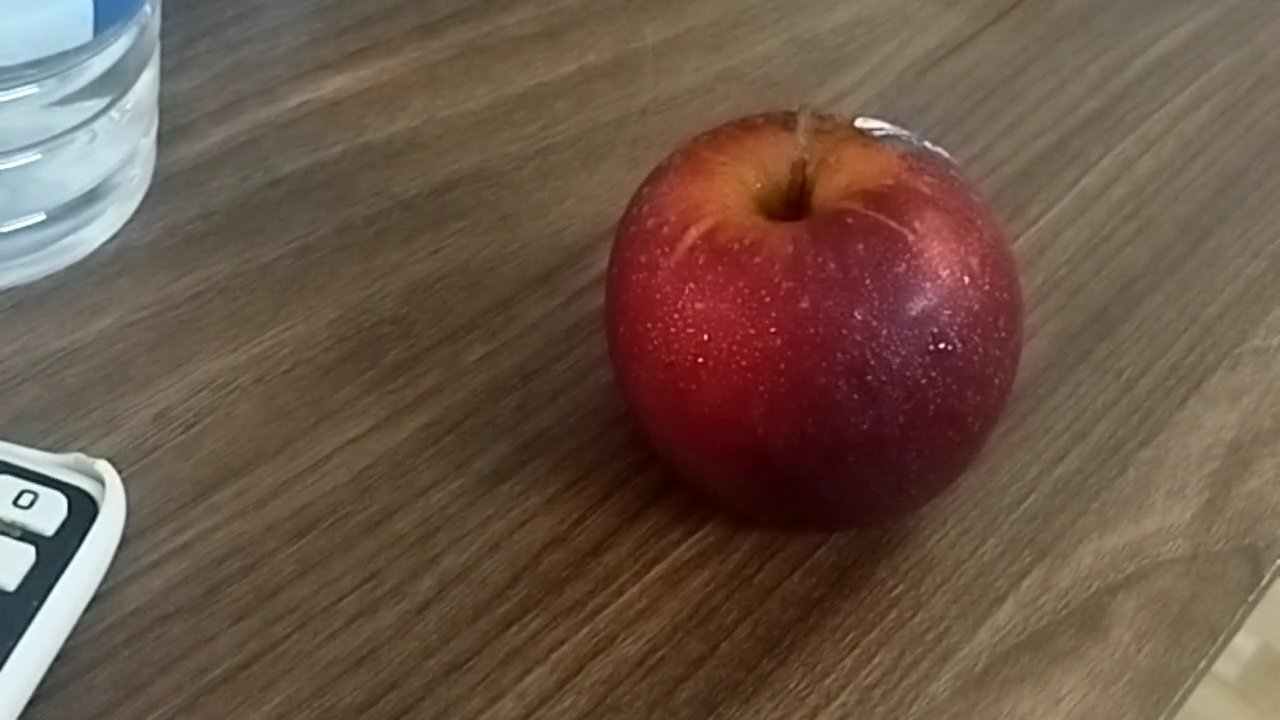apple_rotten: (598, 110, 1036, 543)
